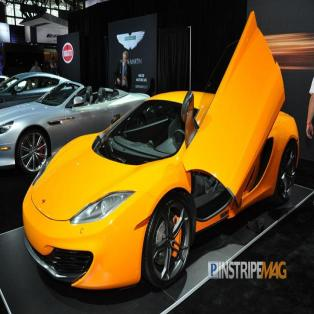Auto: (21, 9, 301, 295)
